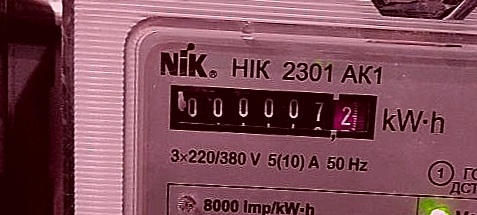0: (185, 95, 201, 120), (262, 97, 278, 121), (237, 96, 252, 120), (287, 98, 302, 121), (211, 97, 226, 119)
2: (340, 105, 355, 129)
7: (313, 99, 327, 124)
screen: (158, 72, 389, 153)
